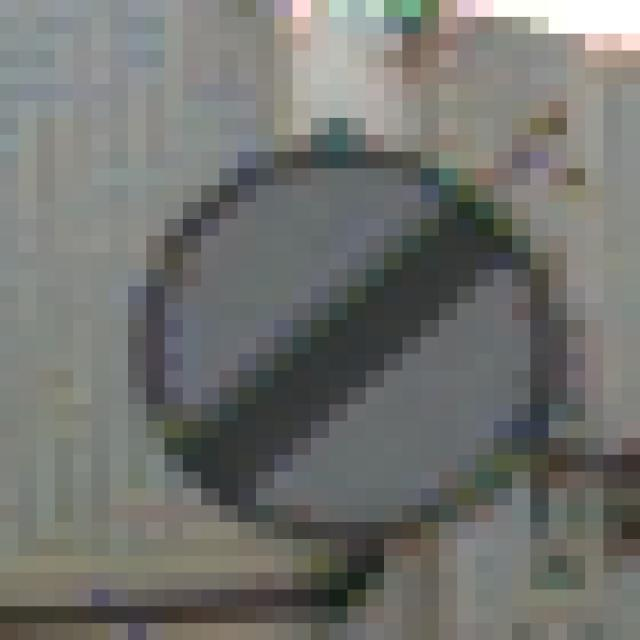restriction ends: (126, 147, 546, 526)
